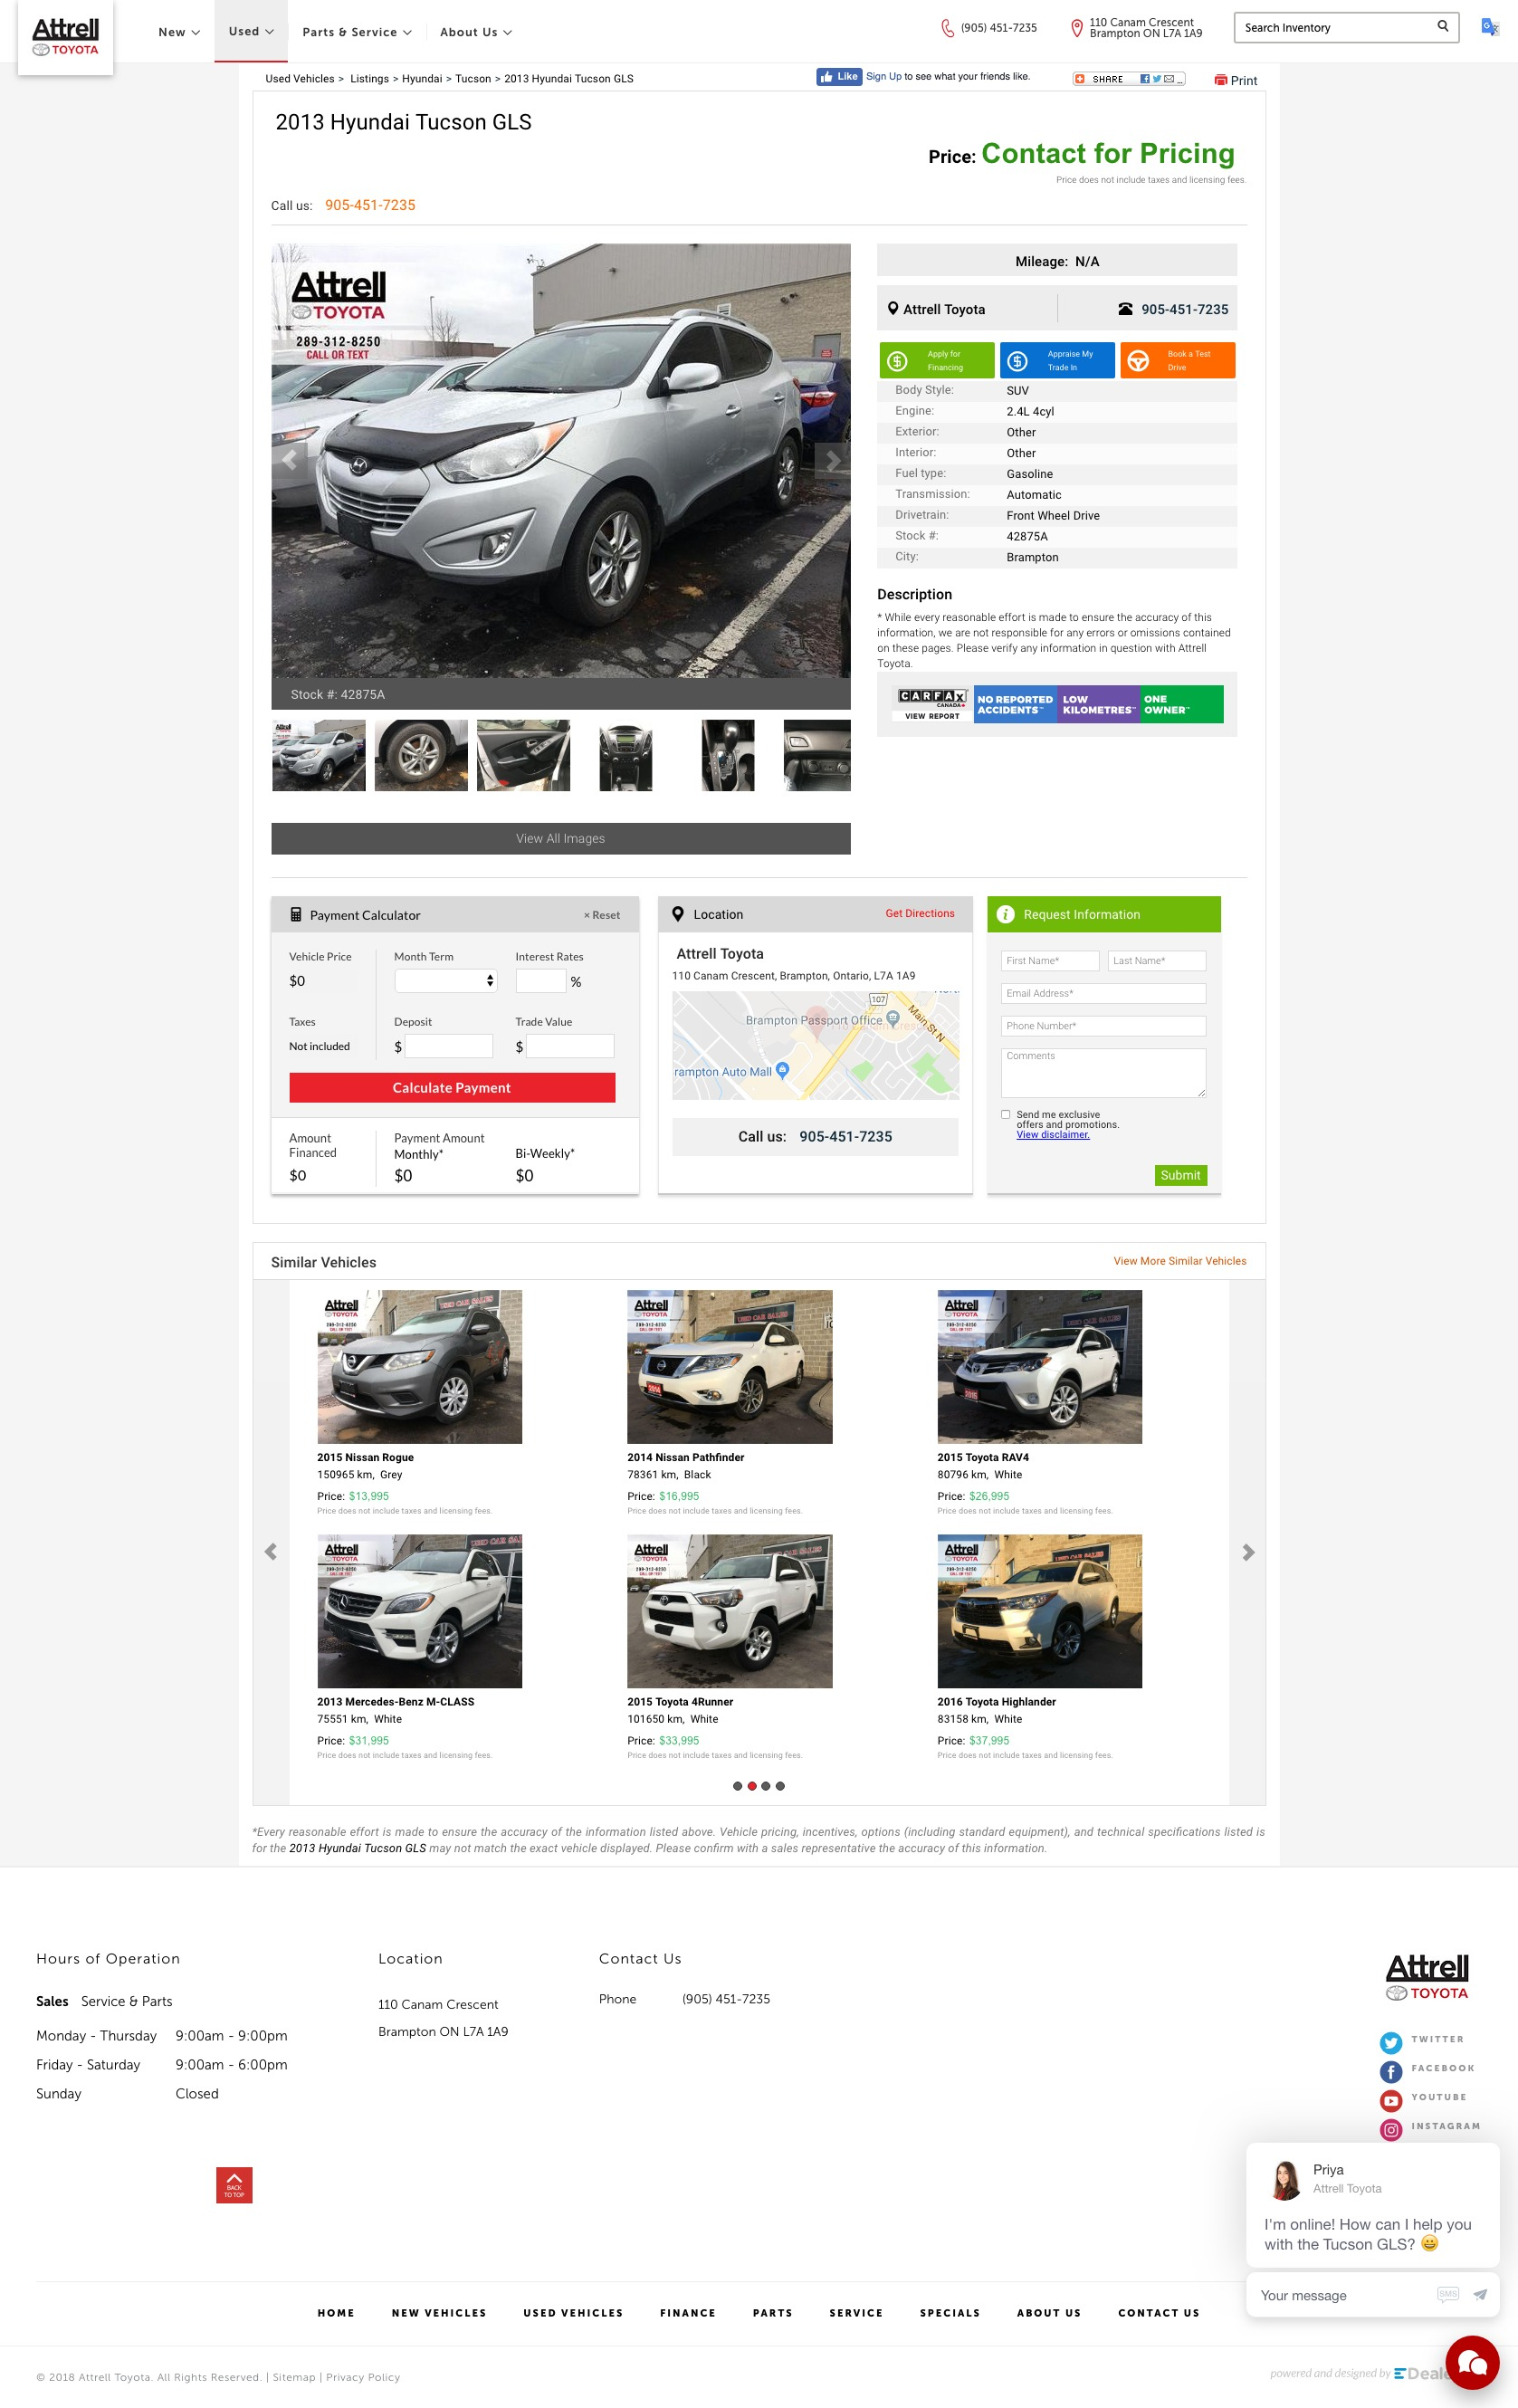car: (813, 444, 853, 479)
